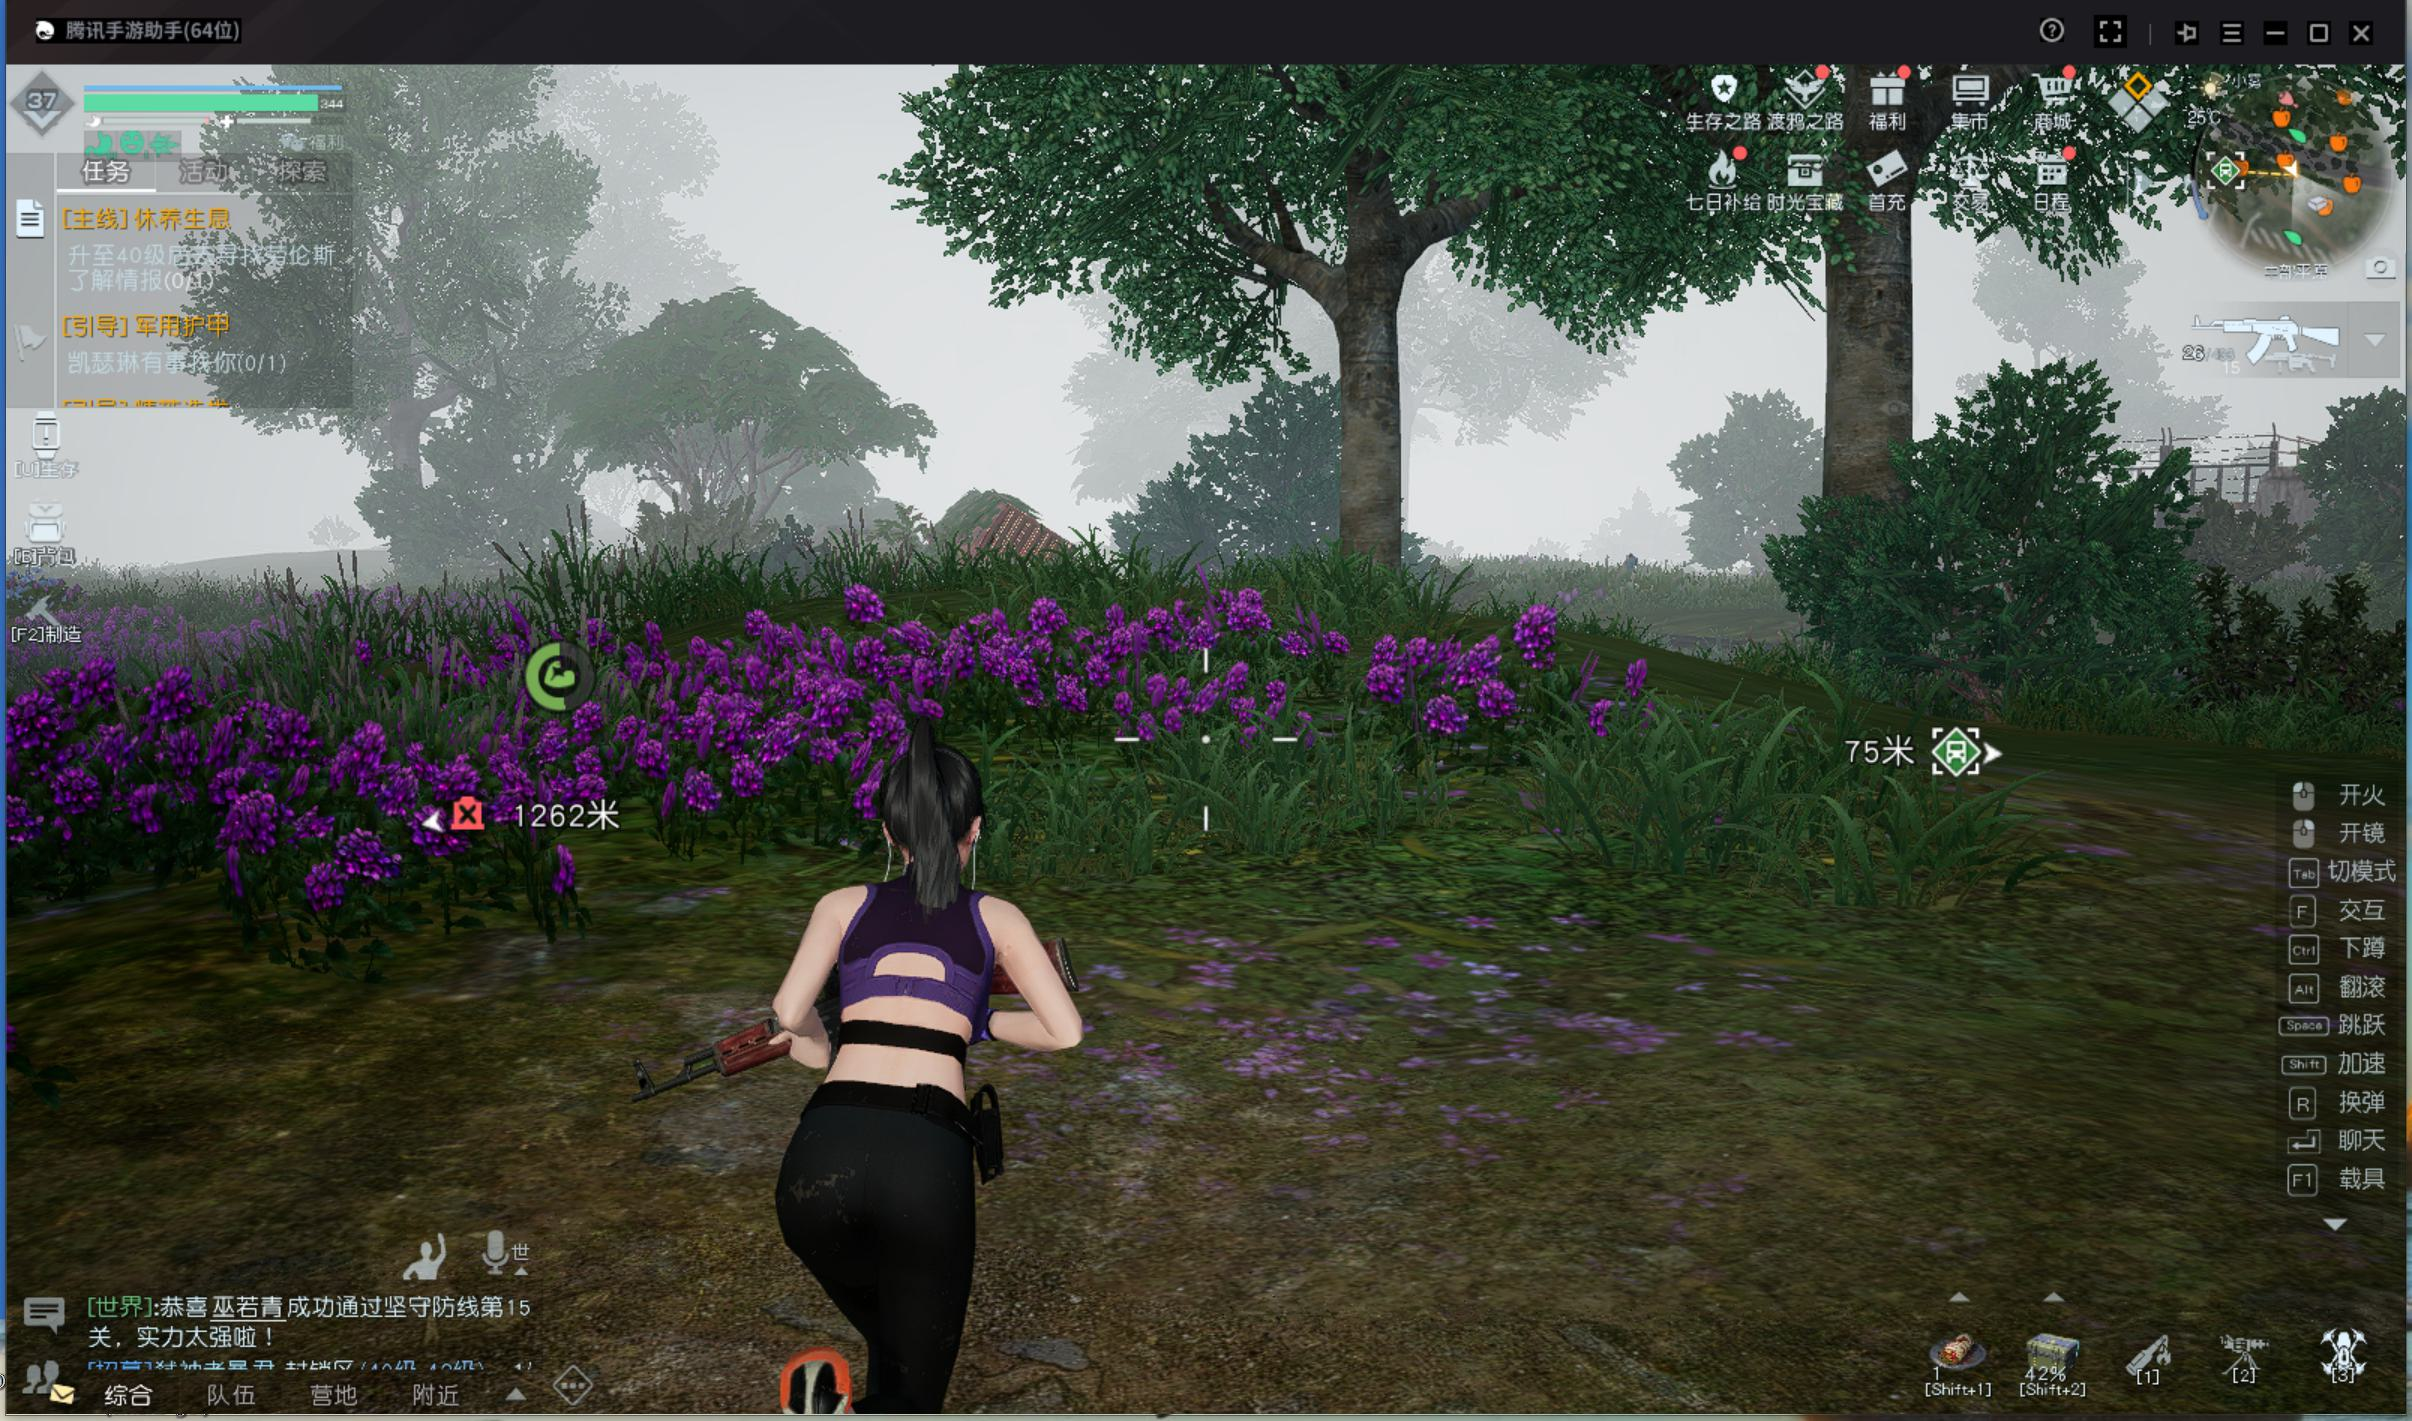tree: (1812, 261, 1925, 650), (1323, 333, 1426, 617)
